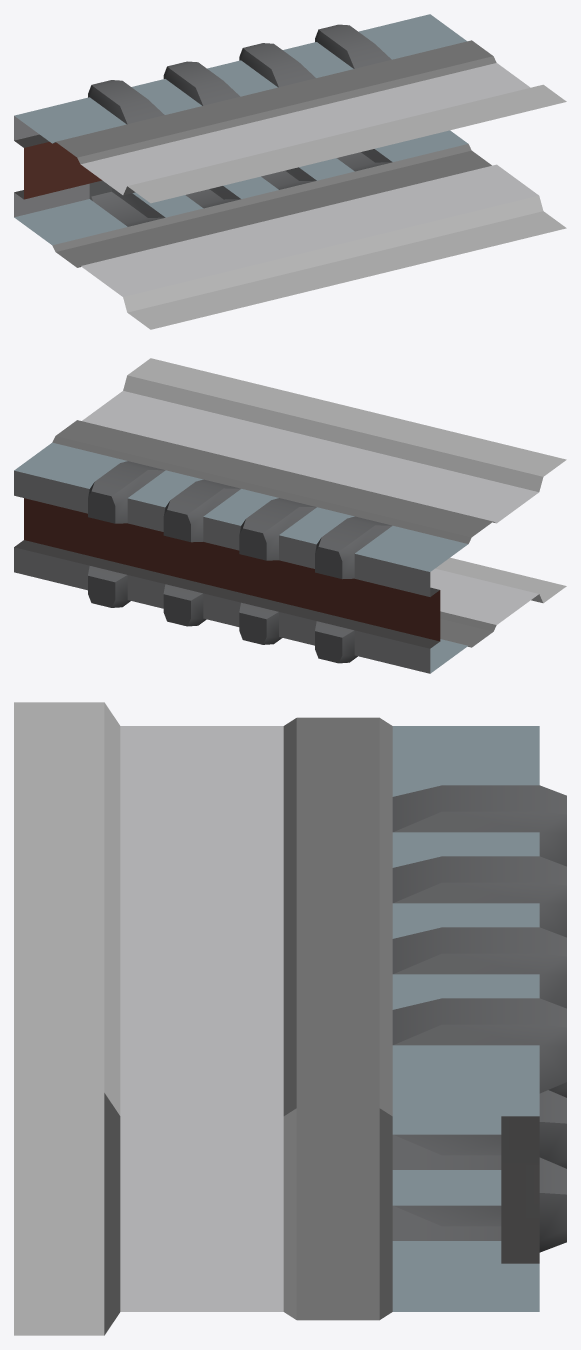
Rendered from Wall.dae.
The picture shows the model from 3 angles, top to bottom: view 1: azimuth 30°, elevation 25°; view 2: azimuth 150°, elevation 25°; view 3: azimuth 270°, elevation 25°; orthographic projection. The views are drawn at different scales.
Parts seen in each view (by area): view 1: Wall.short; view 2: Wall.short; view 3: Wall.short.
Part boxes in pixels (<box>): Wall.short: <box>14,14,566,329</box>; Wall.short: <box>14,358,566,673</box>; Wall.short: <box>14,702,566,1335</box>.
Size of the model in its own units: 5.86 by 3.5 by 1.7.
